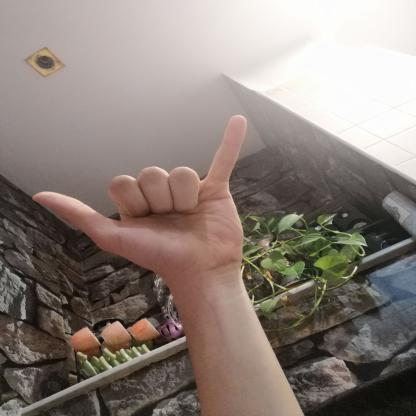YA: (18, 106, 270, 290)
